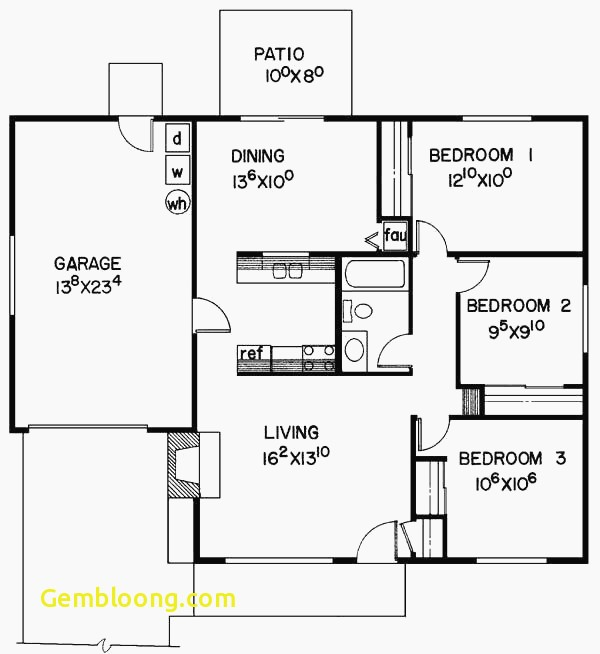door: (352, 515, 399, 554), (197, 294, 237, 337), (373, 328, 413, 371), (115, 123, 156, 158), (414, 217, 455, 252), (458, 258, 499, 293), (416, 419, 453, 453)
